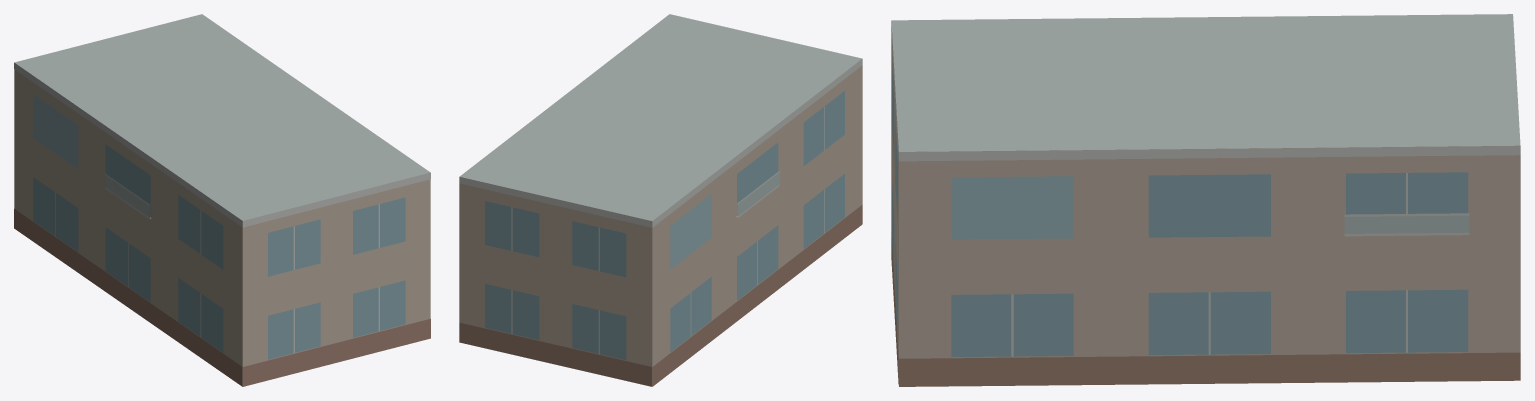
Rendered from survey-upis-32714876.glb.
3 views of the same model, side by side, from view 1: azimuth 30°, elevation 25°; view 2: azimuth 150°, elevation 25°; view 3: azimuth 270°, elevation 25° (orthographic). The views are drawn at different scales.
Parts seen in each view (by area): view 1: survey-upis-32714876.tmp; view 2: survey-upis-32714876.tmp; view 3: survey-upis-32714876.tmp.
Boxes of the visible parts, <box> form: survey-upis-32714876.tmp: <box>14,14,430,386</box>; survey-upis-32714876.tmp: <box>459,14,862,386</box>; survey-upis-32714876.tmp: <box>891,14,1520,386</box>.
Bounding box in the file's own units: 7.69 × 6.1 × 14.82.
